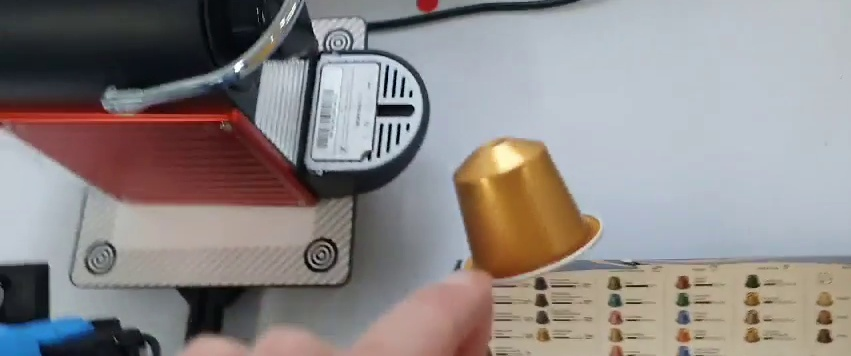capsule_8: (452, 133, 607, 288)
